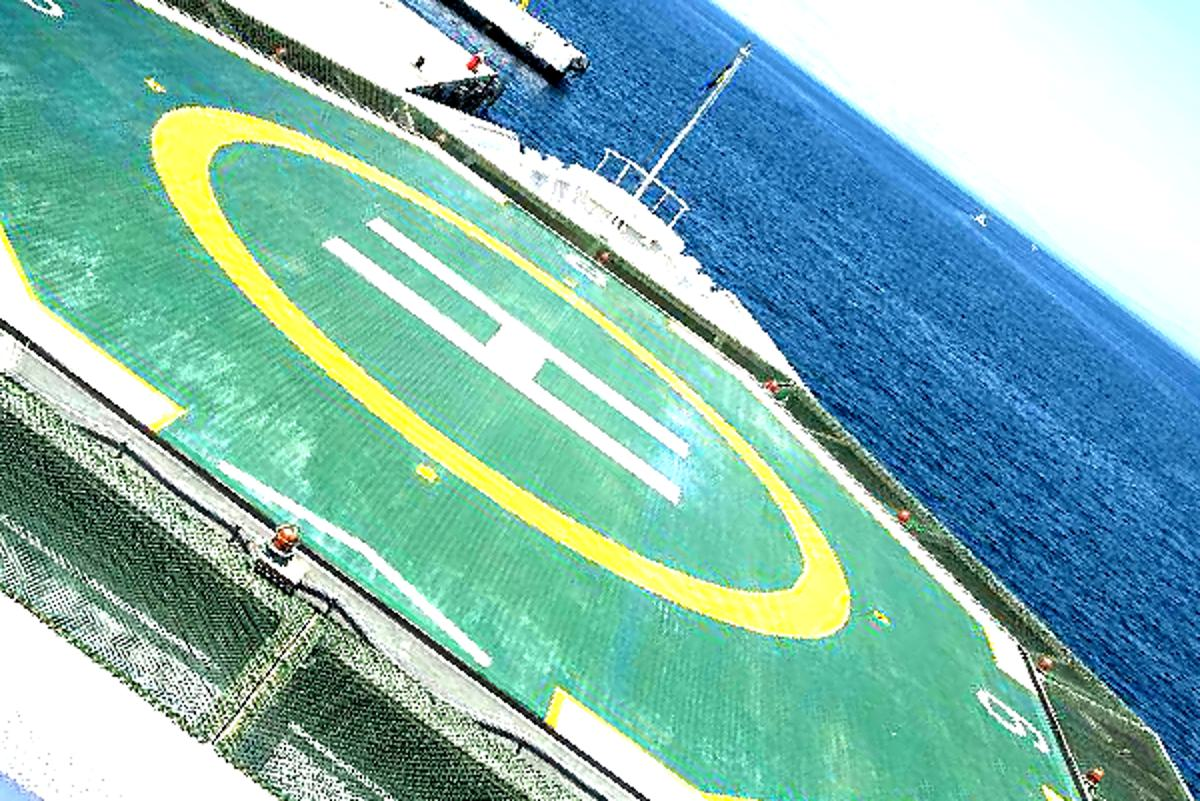Apron: (128, 74, 907, 654)
